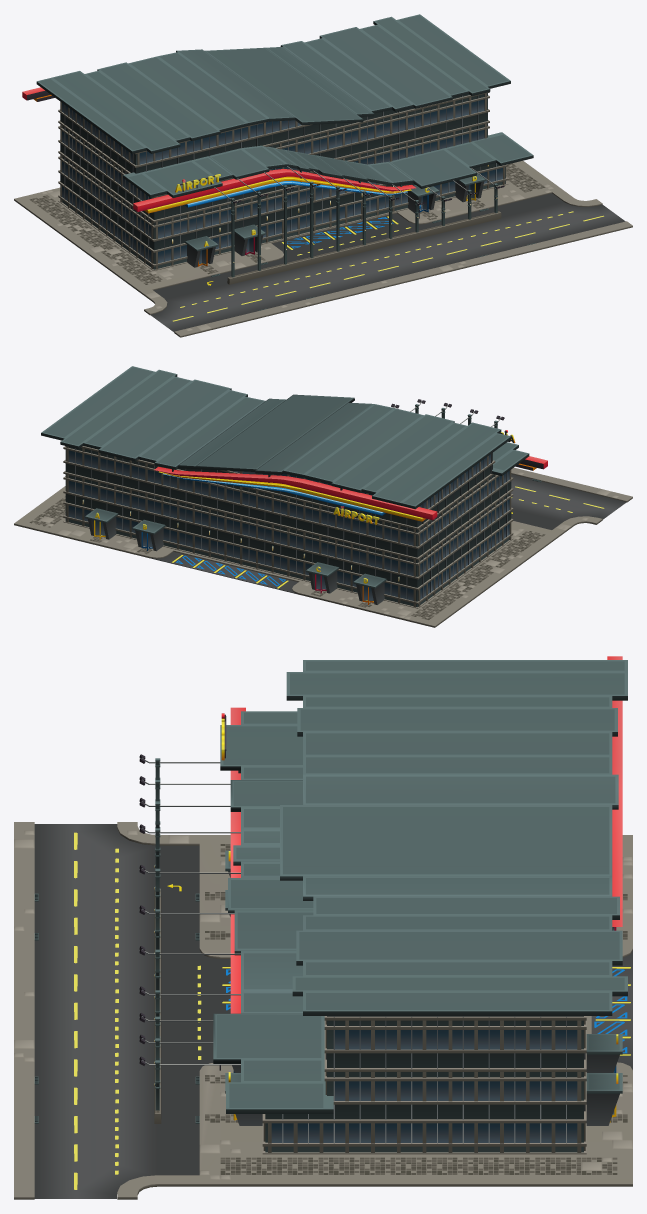
The model's file is Airport_1A.fbx.
3 renders of one model, top to bottom at view 1: azimuth 30°, elevation 25°; view 2: azimuth 150°, elevation 25°; view 3: azimuth 270°, elevation 25°, orthographic. The views are drawn at different scales.
Visible parts, largest first — view 1: Airport_1A, Airport_1A_Addon; view 2: Airport_1A, Airport_1A_Addon; view 3: Airport_1A, Airport_1A_Addon.
Boxes of the visible parts, x1,y1,x2,y2 form: Airport_1A: (14, 14, 555, 288); Airport_1A_Addon: (135, 185, 632, 337); Airport_1A: (14, 366, 556, 627); Airport_1A_Addon: (511, 467, 632, 538); Airport_1A: (139, 656, 632, 1186); Airport_1A_Addon: (14, 822, 220, 1199).
Bounding box in the file's own units: 8600 × 2090 × 6000.
